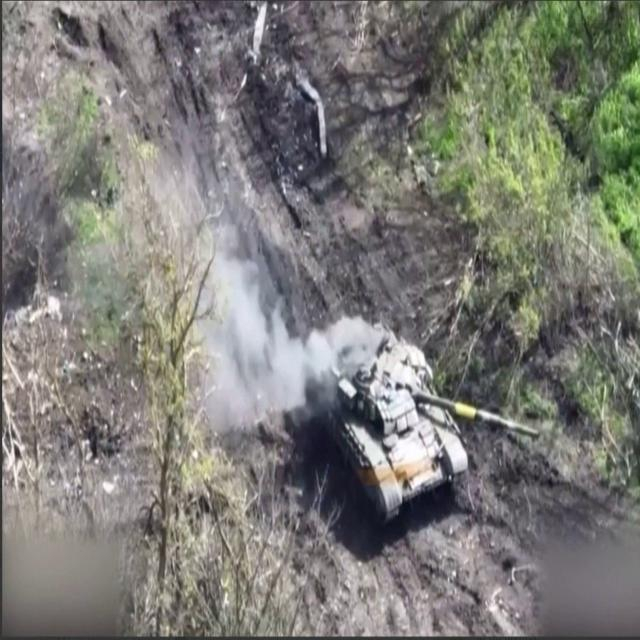MBT: (296, 332, 542, 539)
